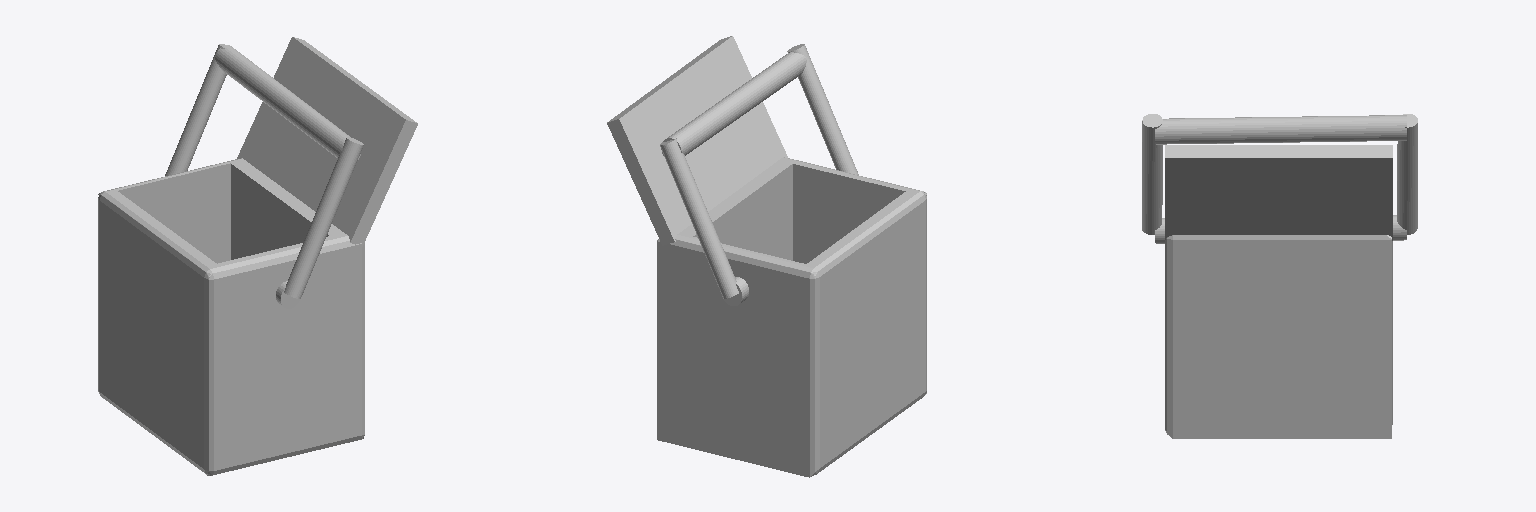
File: cooler.obj
The picture shows the model from 3 angles: view 1: azimuth 30°, elevation 25°; view 2: azimuth 150°, elevation 25°; view 3: azimuth 270°, elevation 25°; orthographic projection.
Parts seen in each view (by area): view 1: Cube, Cube.001, Cylinder.003, Cylinder.002, Cylinder.001; view 2: Cube, Cube.001, Cylinder.003, Cylinder.001, Cylinder.002; view 3: Cube, Cube.001, Cylinder.003, Cylinder.002, Cylinder.001.
Part boxes in pixels (bbox=[...]): Cube: bbox=[98, 158, 364, 475]; Cube.001: bbox=[237, 37, 417, 246]; Cylinder.003: bbox=[215, 45, 360, 159]; Cylinder.002: bbox=[284, 137, 363, 298]; Cylinder.001: bbox=[165, 44, 226, 175]; Cube: bbox=[657, 157, 926, 477]; Cube.001: bbox=[607, 36, 787, 245]; Cylinder.003: bbox=[661, 52, 806, 155]; Cylinder.001: bbox=[660, 138, 738, 298]; Cylinder.002: bbox=[787, 44, 858, 174]; Cube: bbox=[1165, 235, 1392, 438]; Cube.001: bbox=[1165, 145, 1392, 240]; Cylinder.003: bbox=[1155, 115, 1406, 144]; Cylinder.002: bbox=[1142, 114, 1162, 234]; Cylinder.001: bbox=[1397, 114, 1417, 234].
Size of the model in its own units: 2.13 by 3.03 by 2.43.